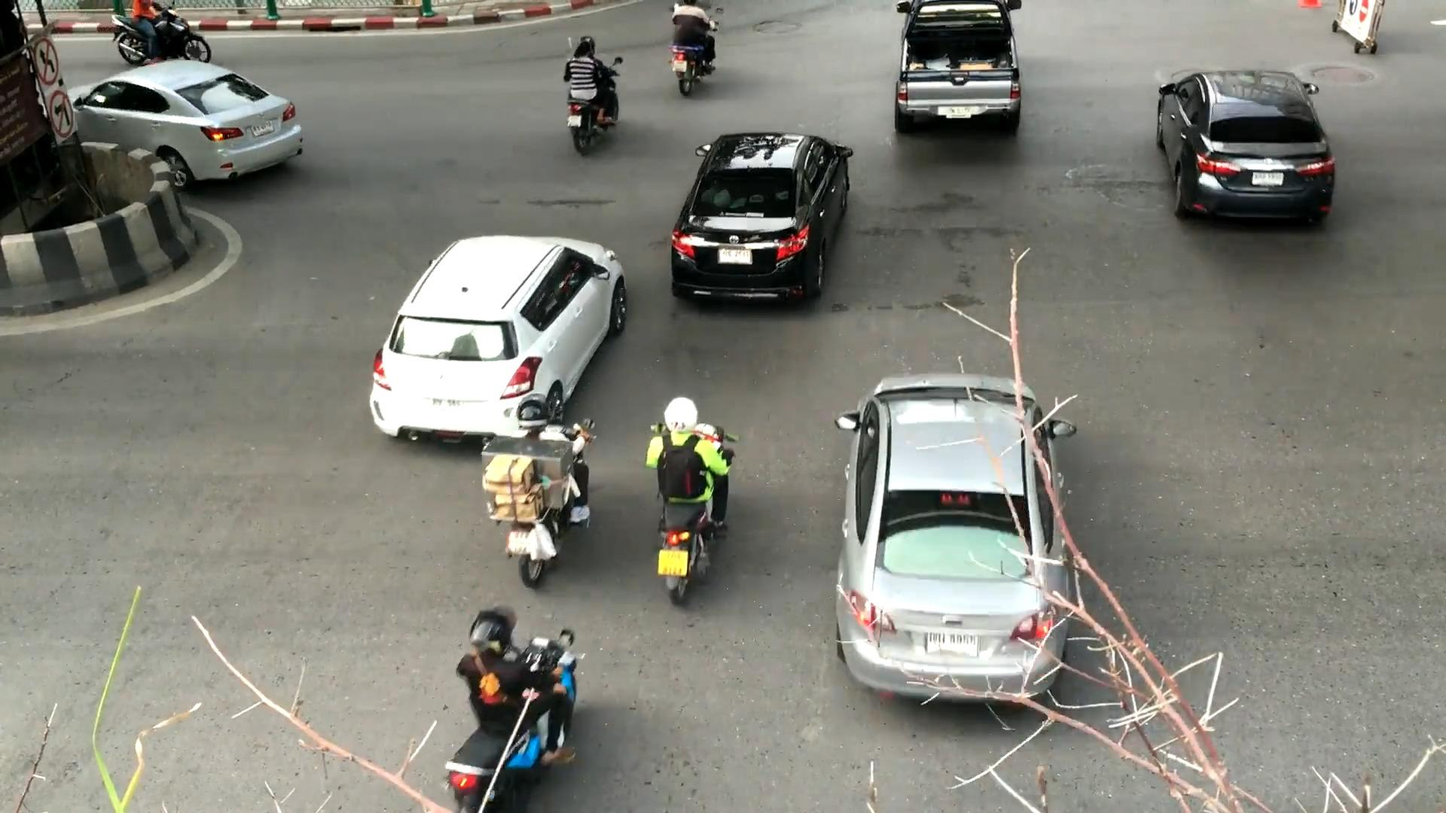driver: (443, 606, 577, 813), (482, 393, 598, 591), (646, 396, 738, 607), (563, 35, 623, 156), (110, 0, 212, 65), (668, 0, 725, 97)
helmet: (467, 607, 517, 661), (515, 393, 551, 433), (664, 396, 699, 434)
no-helmet: (573, 41, 591, 58)
